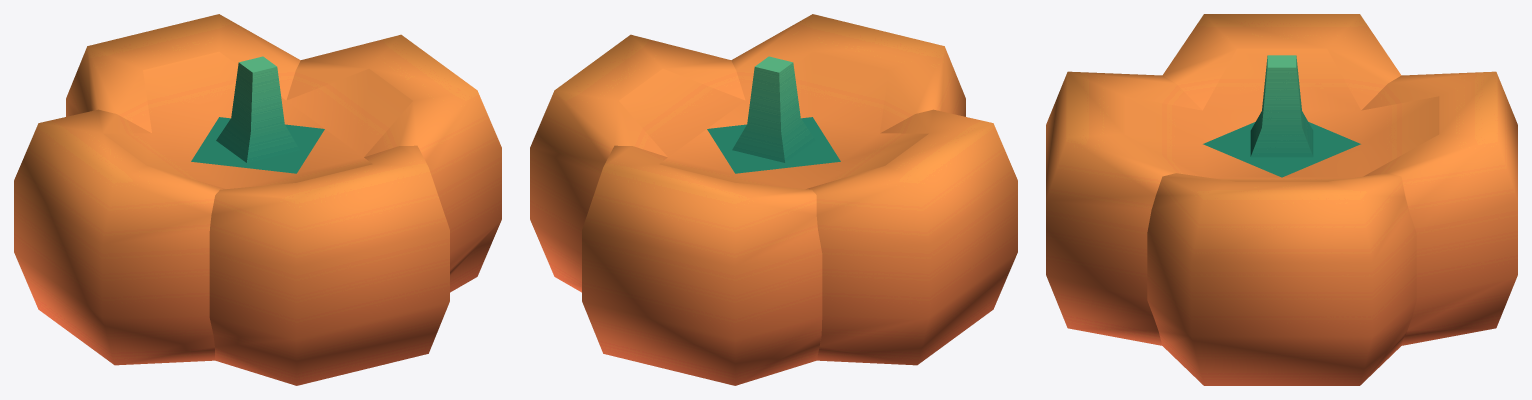
The model's file is pumpkin.glb.
3 renders of one model, left to right at view 1: azimuth 30°, elevation 25°; view 2: azimuth 150°, elevation 25°; view 3: azimuth 270°, elevation 25°, orthographic. The views are drawn at different scales.
Parts seen in each view (by area): view 1: pumpkin; view 2: pumpkin; view 3: pumpkin.
Part boxes in pixels (x1,y1,x2,y2): pumpkin: (14,14,501,385); pumpkin: (530,14,1017,385); pumpkin: (1046,14,1517,385).
Bounding box in the file's own units: 0.4189 × 0.2291 × 0.4189.
Materials: 1 (1 with a texture image).
